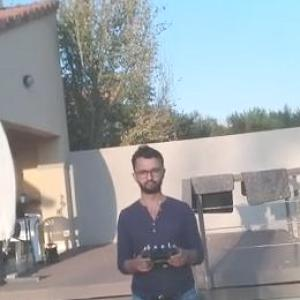follow: (113, 134, 214, 299)
